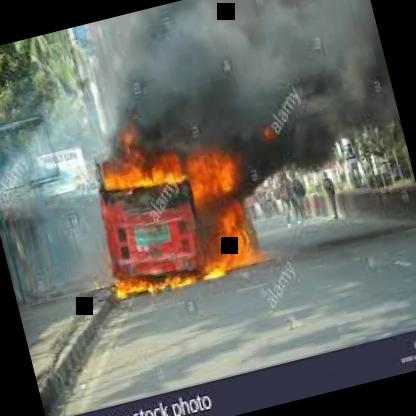fire: (74, 81, 280, 312)
